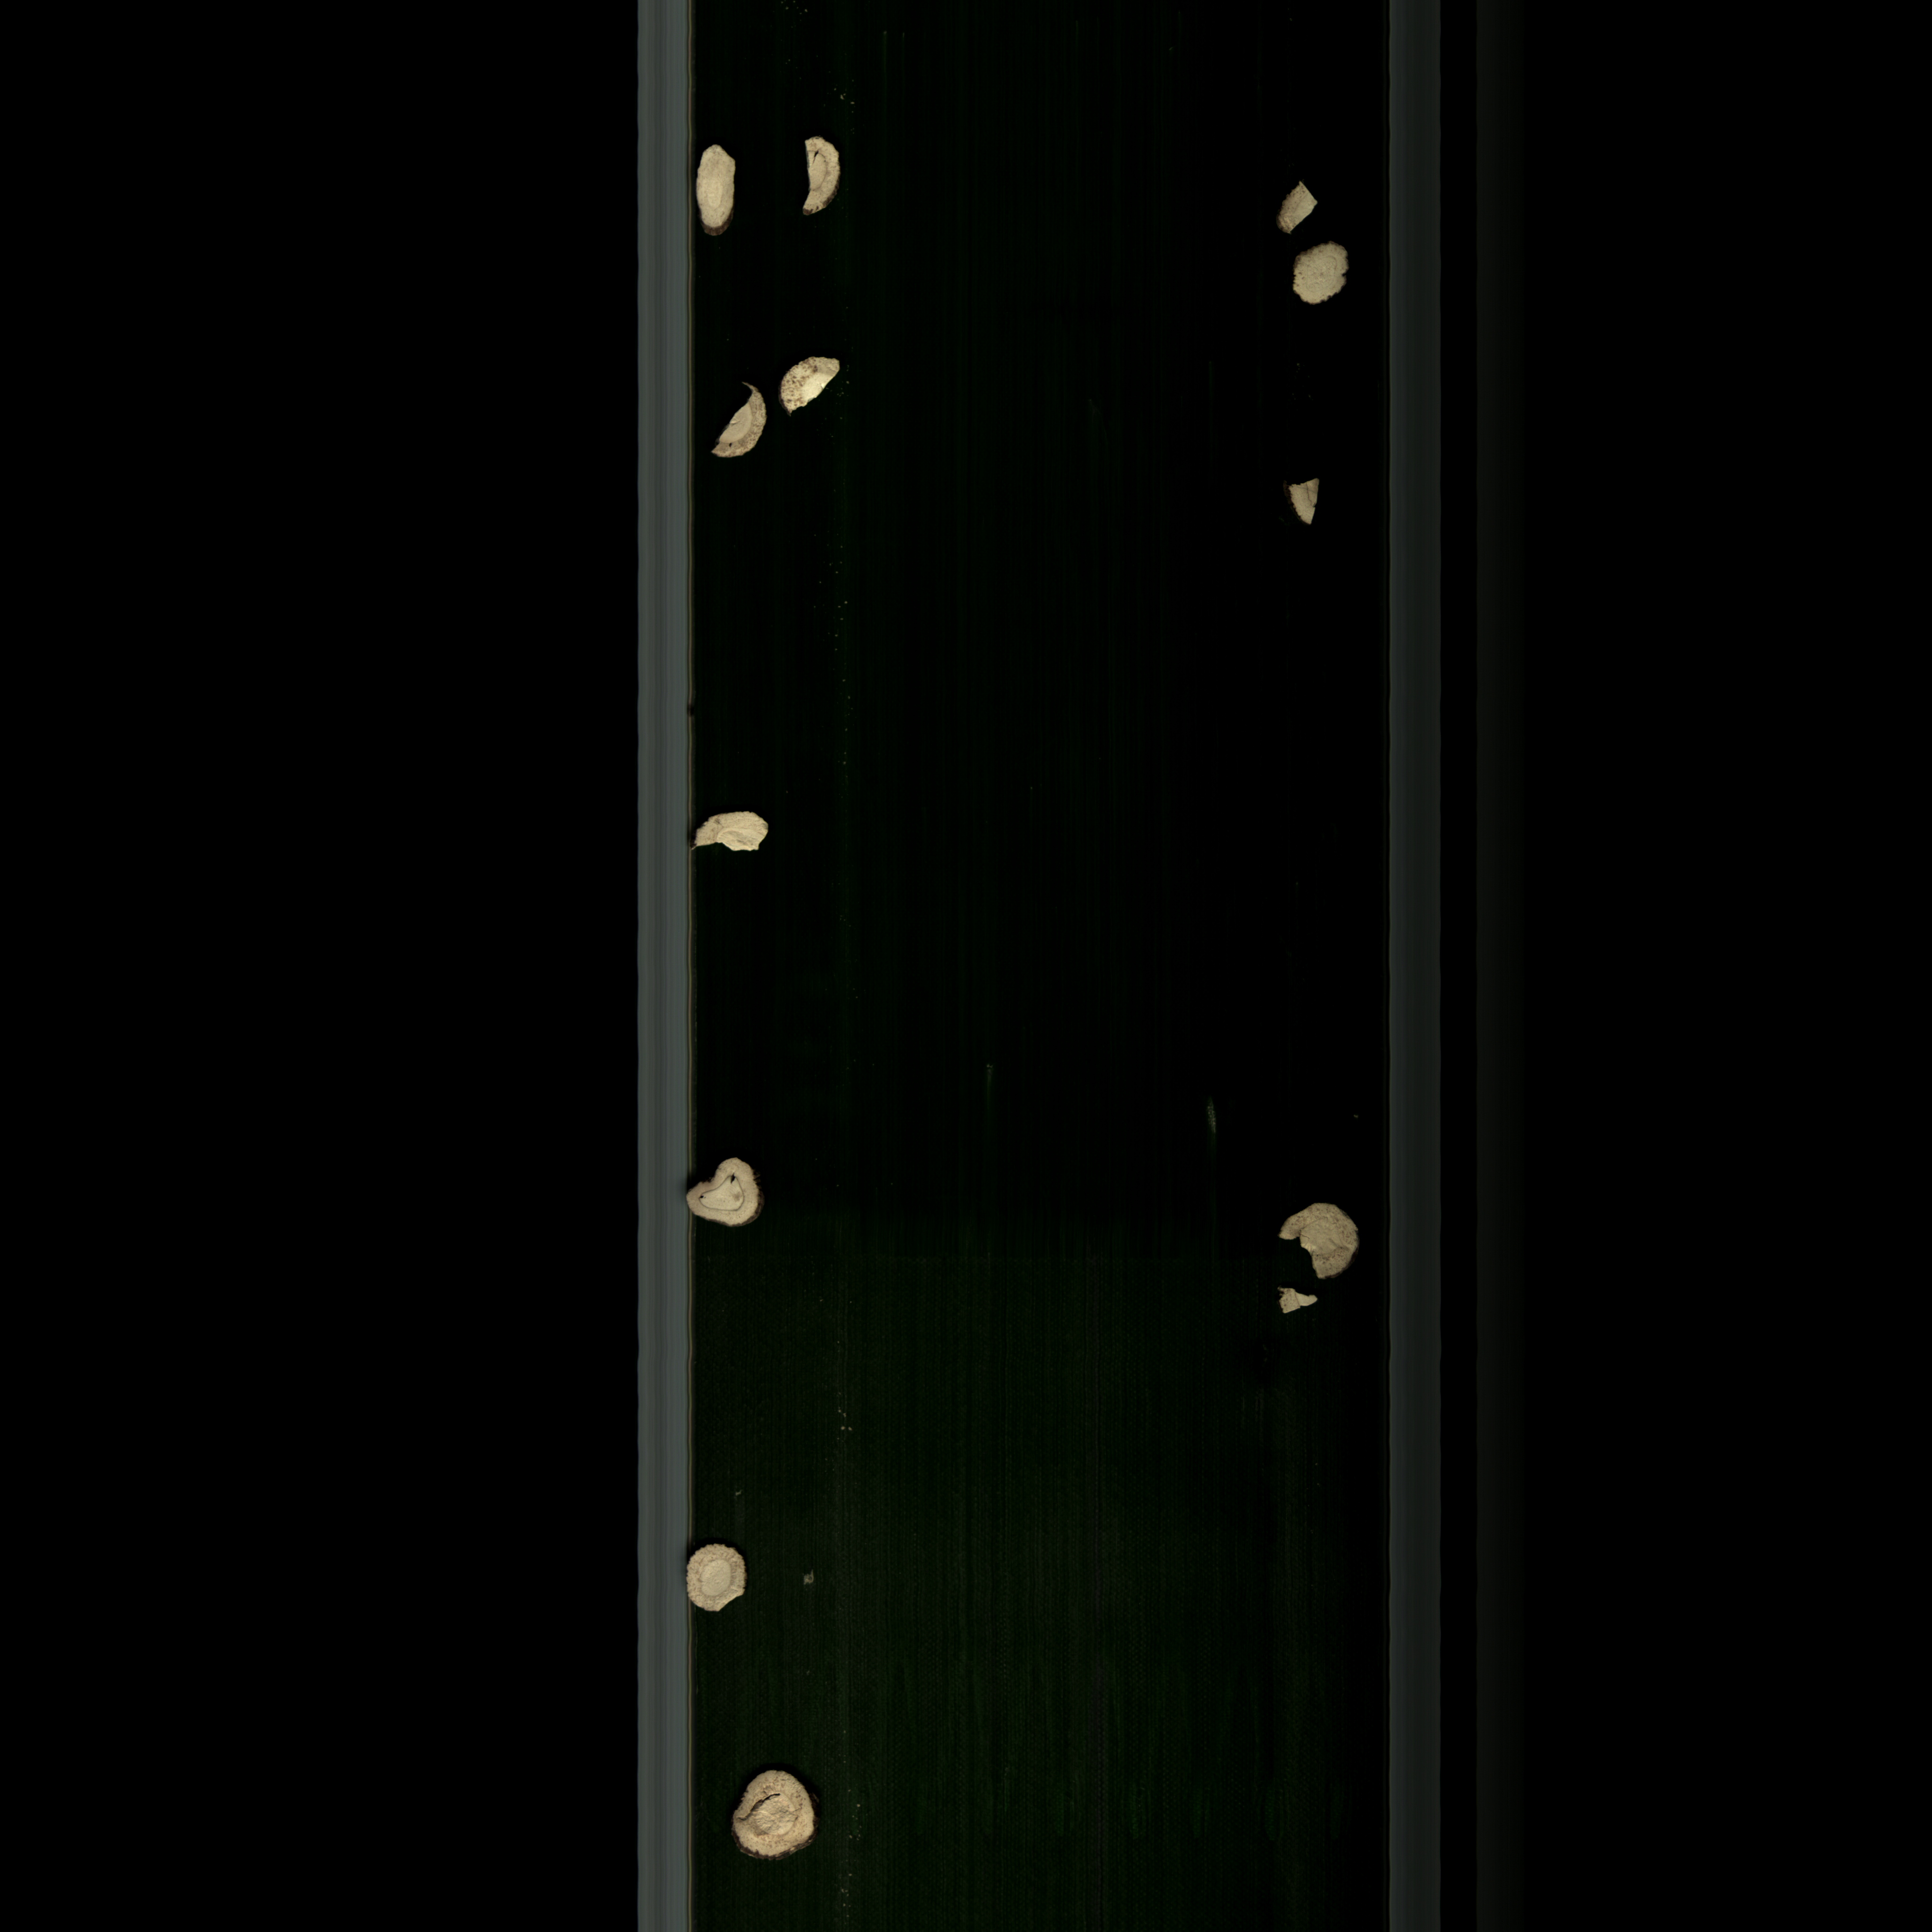debris: (786, 131, 851, 221), (690, 809, 784, 863)
distortion: (679, 1157, 773, 1238), (681, 131, 741, 232), (1290, 239, 1362, 322), (1267, 1281, 1320, 1327)
dreg: (1281, 471, 1329, 529)
moldy: (711, 1762, 830, 1868), (1269, 1191, 1366, 1284), (768, 350, 860, 419), (701, 379, 763, 467), (1274, 168, 1325, 241)
